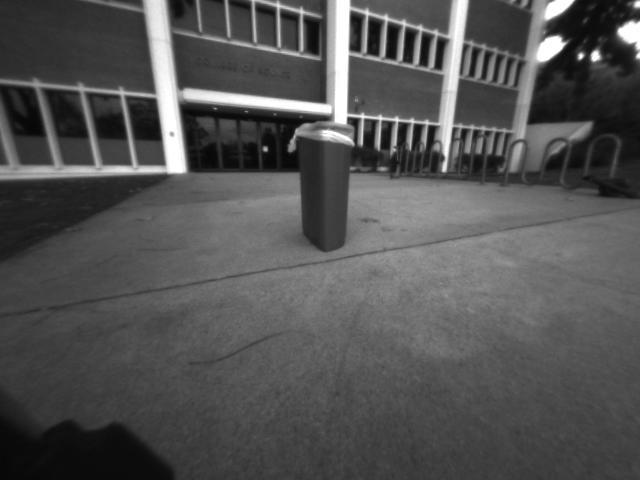trashcan_open: (287, 119, 354, 254)
